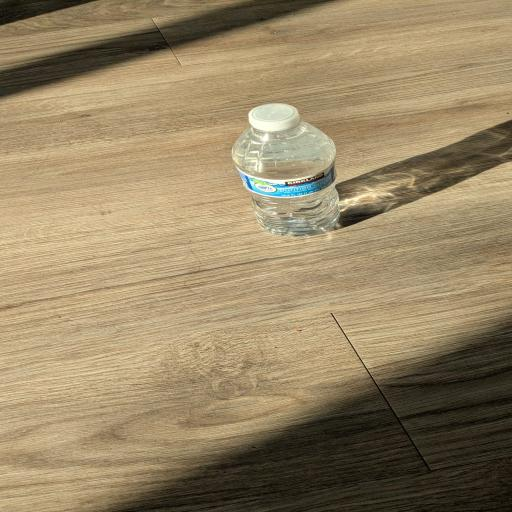waterbottle: (233, 104, 339, 235)
